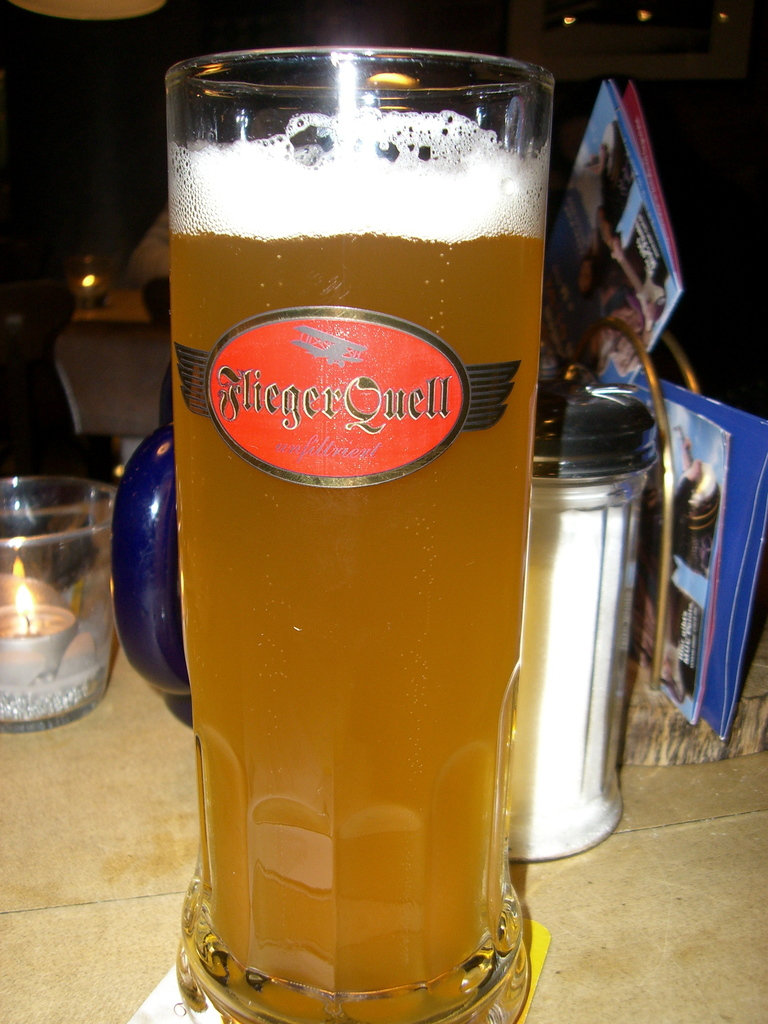Beer: (136, 30, 542, 1023)
